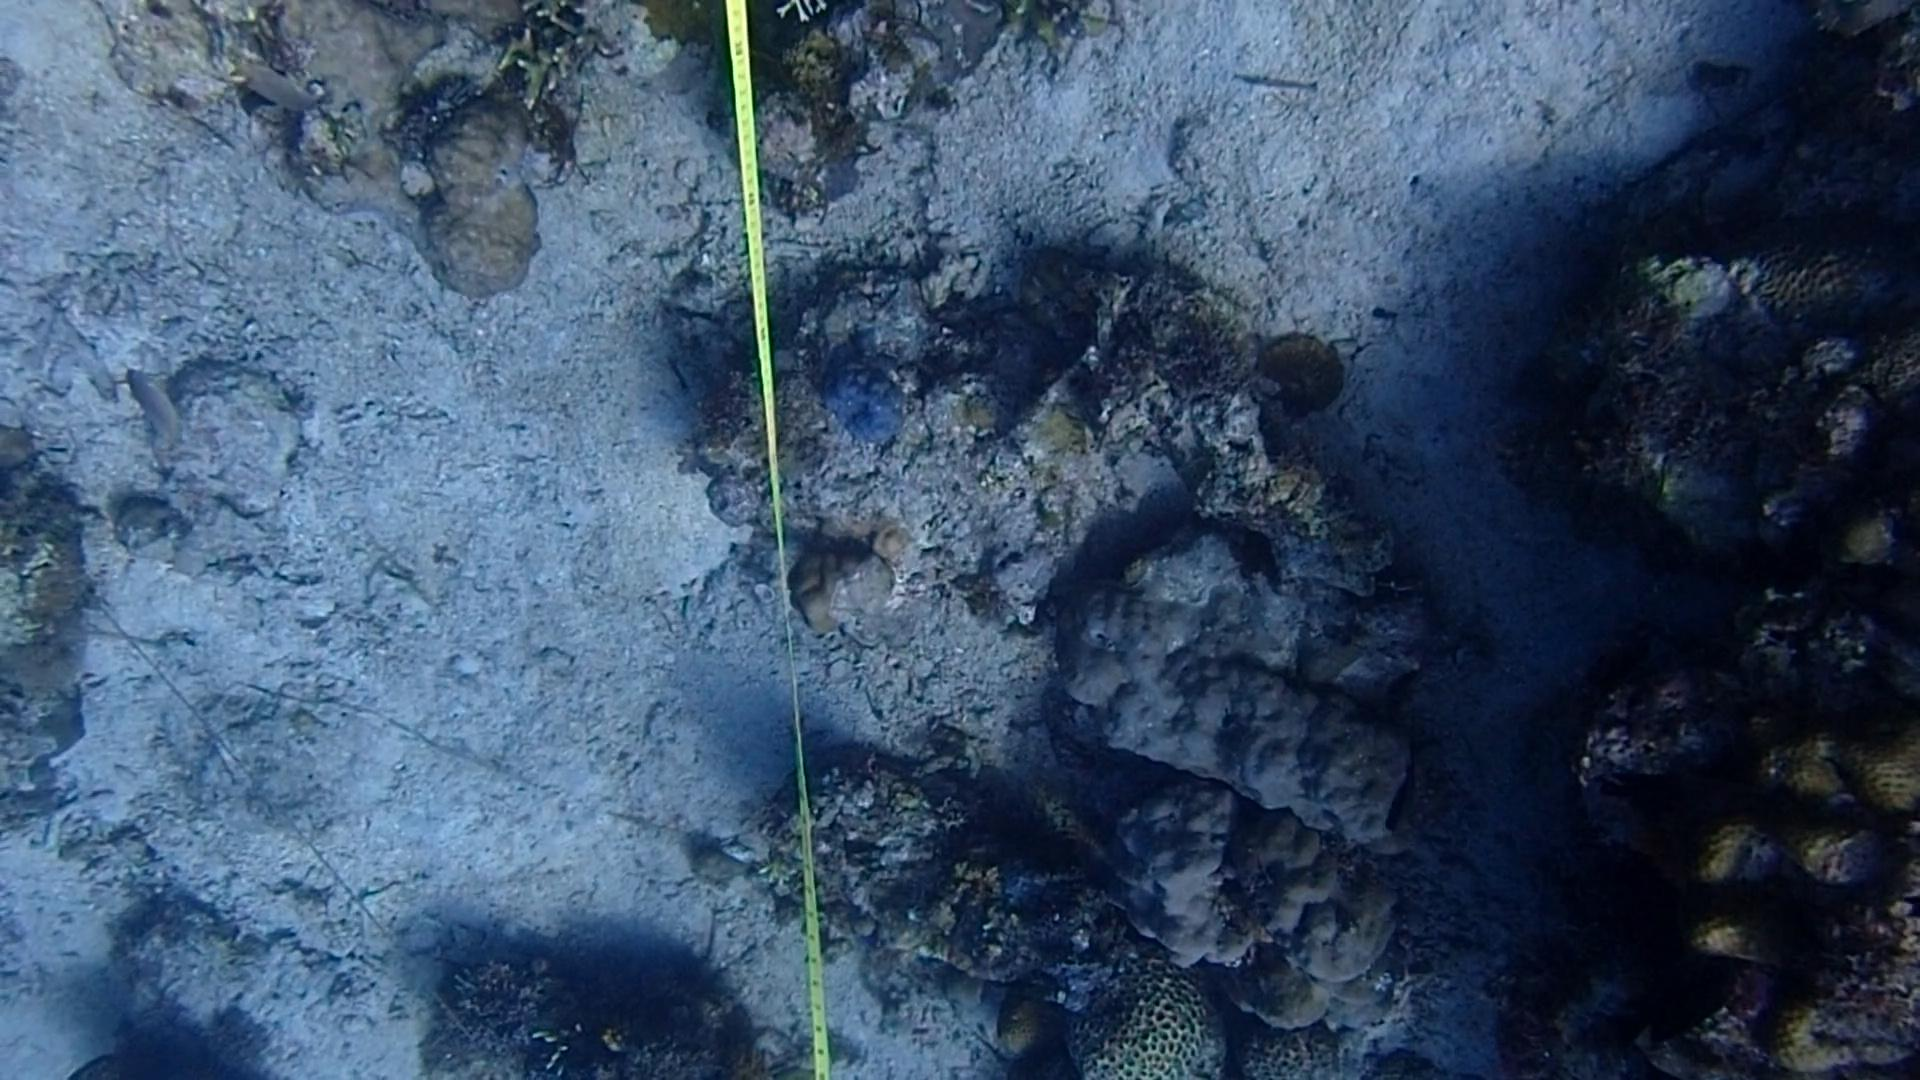Dark Fish: (1607, 938, 1762, 1036), (1606, 750, 1717, 835), (1656, 198, 1756, 280), (1374, 741, 1419, 843)
Light Fish: (120, 355, 187, 462)
